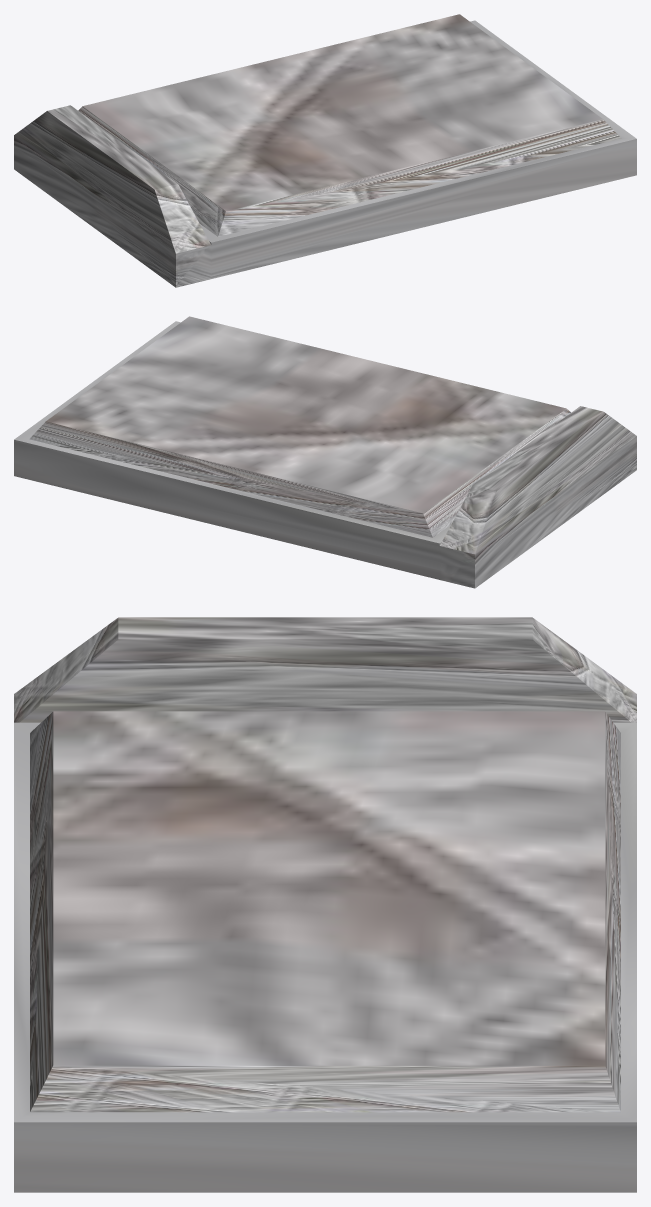
Rendered from bed.dae.
3 views of the same model, one above another, from view 1: azimuth 30°, elevation 25°; view 2: azimuth 150°, elevation 25°; view 3: azimuth 270°, elevation 25° (orthographic). The views are drawn at different scales.
Parts seen in each view (by area): view 1: Cube; view 2: Cube; view 3: Cube.
Boxes of the visible parts, left/top/right/bottom form: Cube: left=14, top=14, right=636, bottom=287; Cube: left=14, top=316, right=636, bottom=588; Cube: left=14, top=617, right=636, bottom=1192.
Size of the model in its own units: 2.9 by 1.76 by 0.4609.
Materials: 2 (2 with a texture image).
